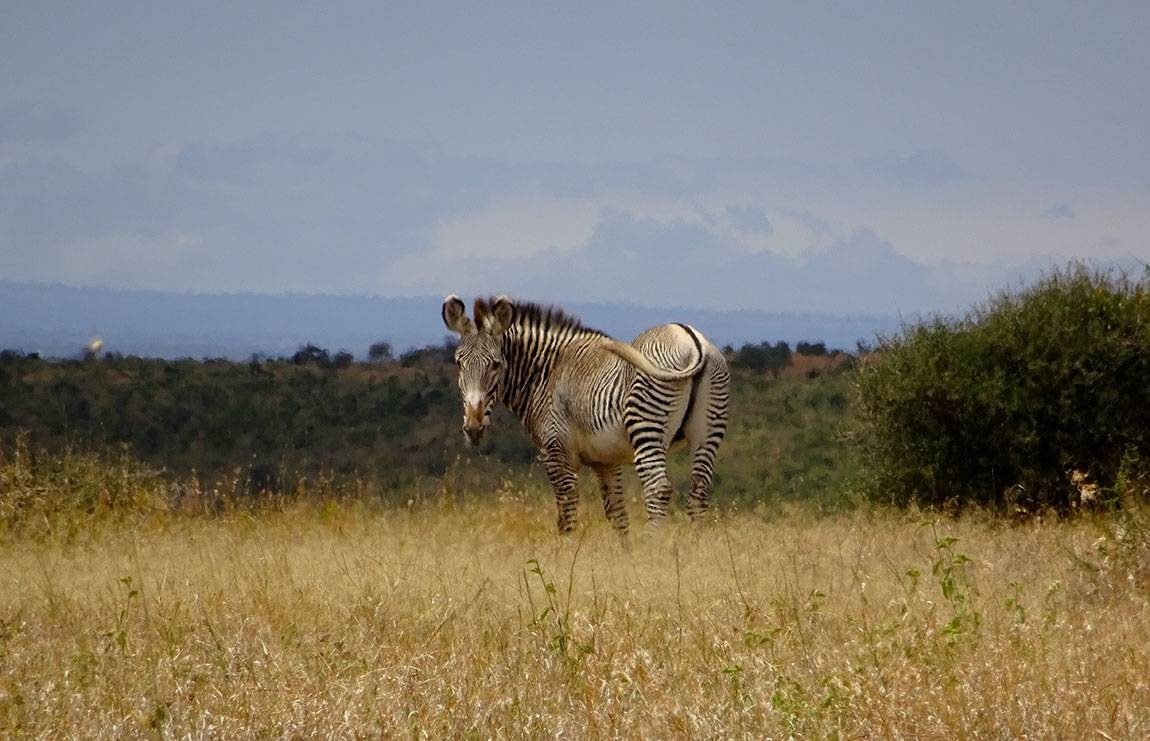zebra: (587, 420, 880, 679)
